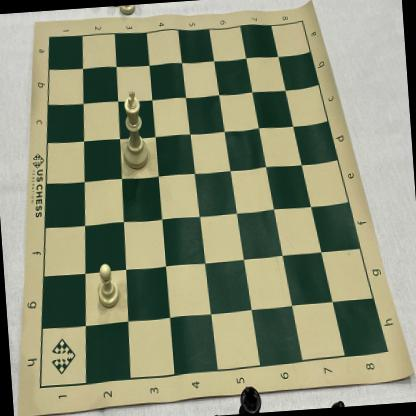king: (116, 86, 152, 172)
pawn: (91, 257, 124, 313)
